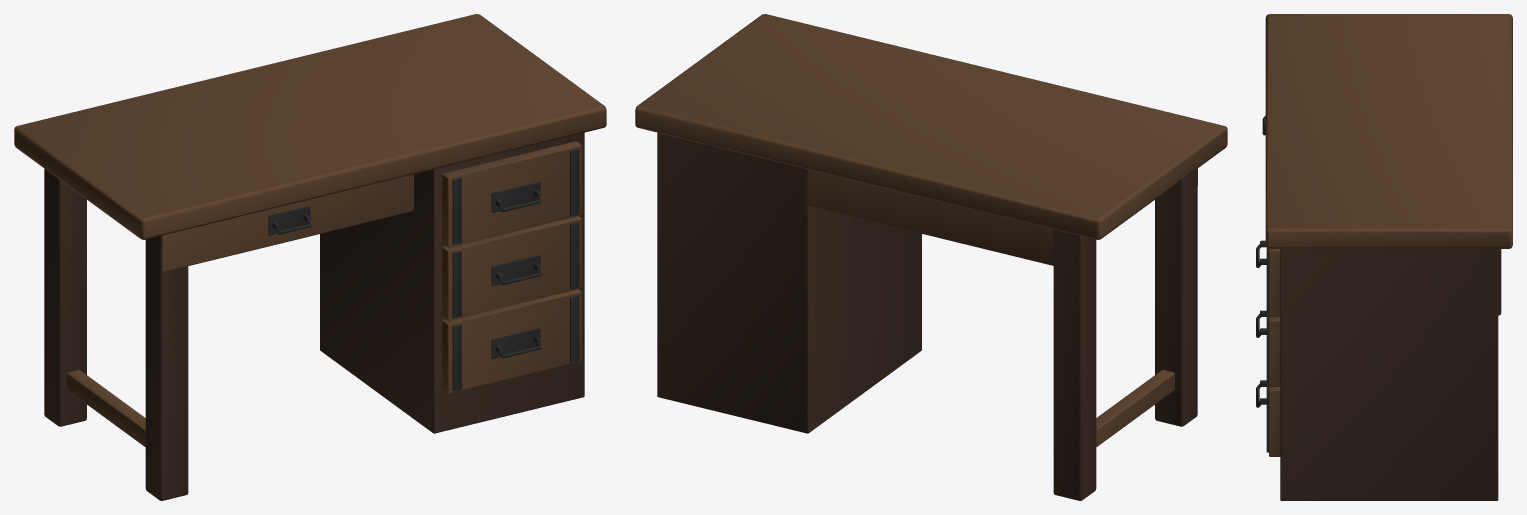
The model's file is kominka-desk-01.glb.
3 views of the same model, side by side, from view 1: azimuth 30°, elevation 25°; view 2: azimuth 150°, elevation 25°; view 3: azimuth 270°, elevation 25° (orthographic). The views are drawn at different scales.
Visible parts, largest first — view 1: kominka-desk-01; view 2: kominka-desk-01; view 3: kominka-desk-01.
Boxes of the visible parts, x1,y1,x2,y2 form: kominka-desk-01: (14, 14, 606, 500); kominka-desk-01: (635, 14, 1227, 500); kominka-desk-01: (1256, 14, 1512, 500).
Size of the model in its own units: 1.2 by 0.72 by 0.6.
